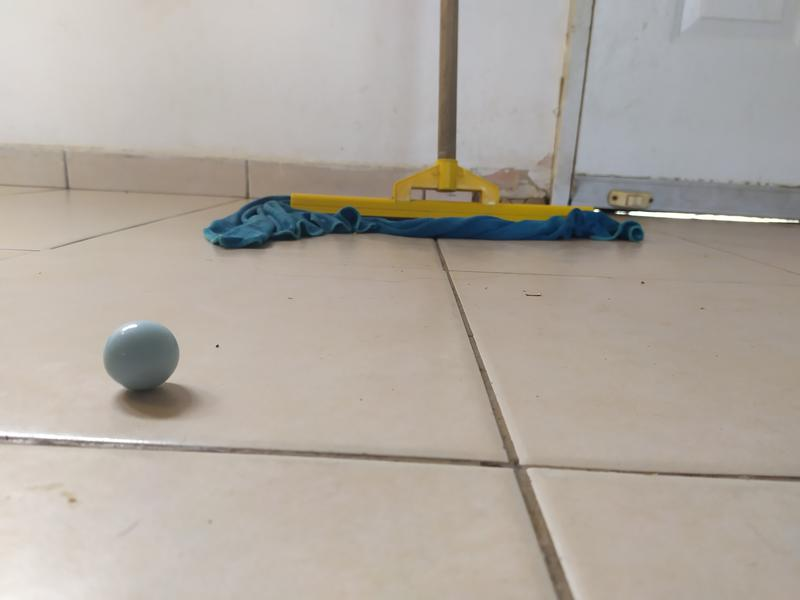Warning: (100, 316, 183, 394)
